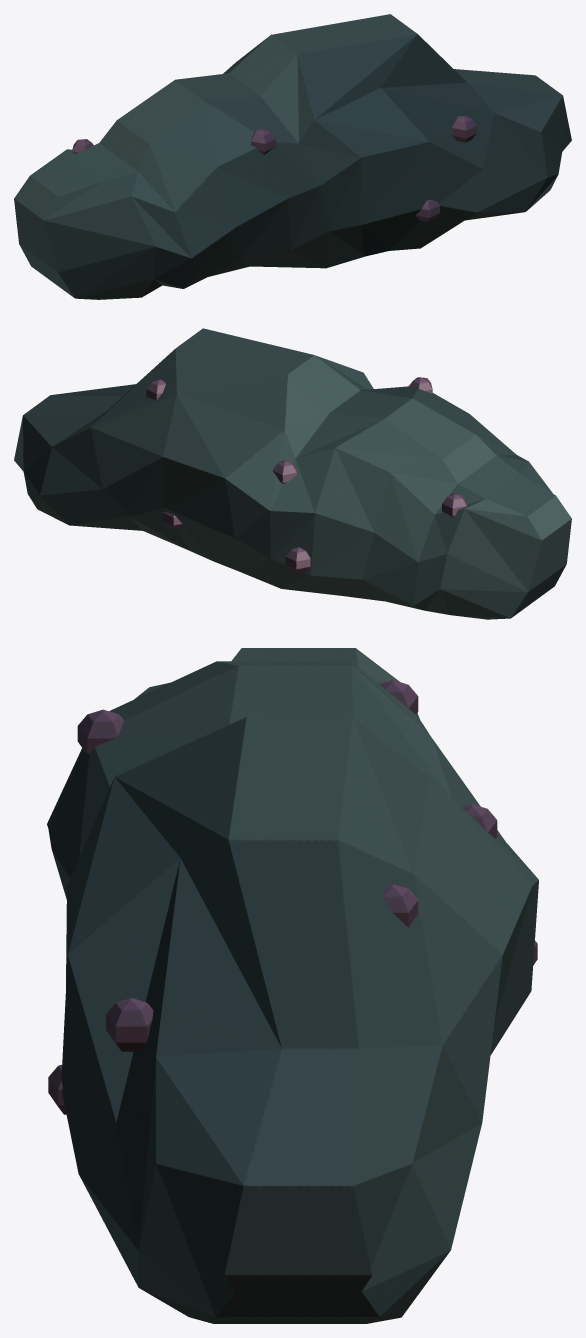
Rendered from BigFL.obj.
3 renders of one model, top to bottom at view 1: azimuth 30°, elevation 25°; view 2: azimuth 150°, elevation 25°; view 3: azimuth 270°, elevation 25°, orthographic. The views are drawn at different scales.
Visible parts, largest first — view 1: BigFL; view 2: BigFL; view 3: BigFL.
Boxes of the visible parts, box(x1,y1,x2,y2) form: BigFL: box(14, 14, 571, 299); BigFL: box(14, 328, 571, 619); BigFL: box(47, 648, 538, 1323).
Bounding box in the file's own units: 0.8861 × 0.3119 × 0.3601.
1 material, 1 textured.
